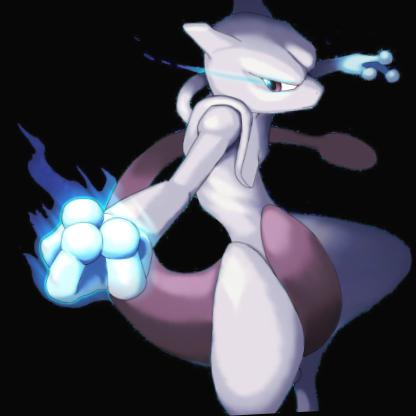Mewtu: (0, 0, 415, 415), (0, 47, 415, 415)
